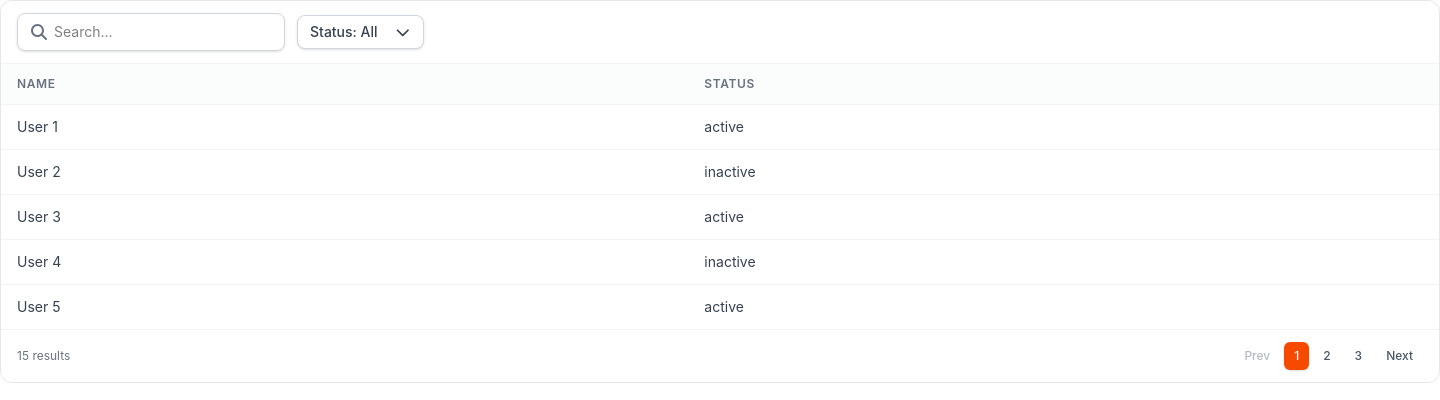
it: DataTable › pagination Next button navigates forward and Prev navigates back
Click the button "Next" at (1400, 356), box [1376,342,1423,370]
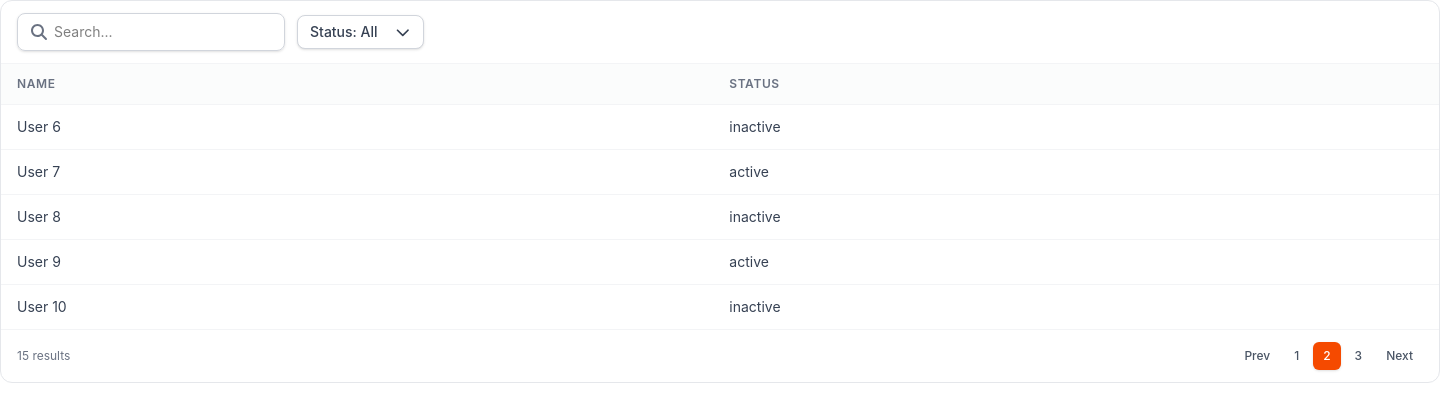
Expected: the row "User 6 inactive" is shown, [1,104,1439,150]
Click the button "Prev" at (1257, 356), box [1234,342,1280,370]
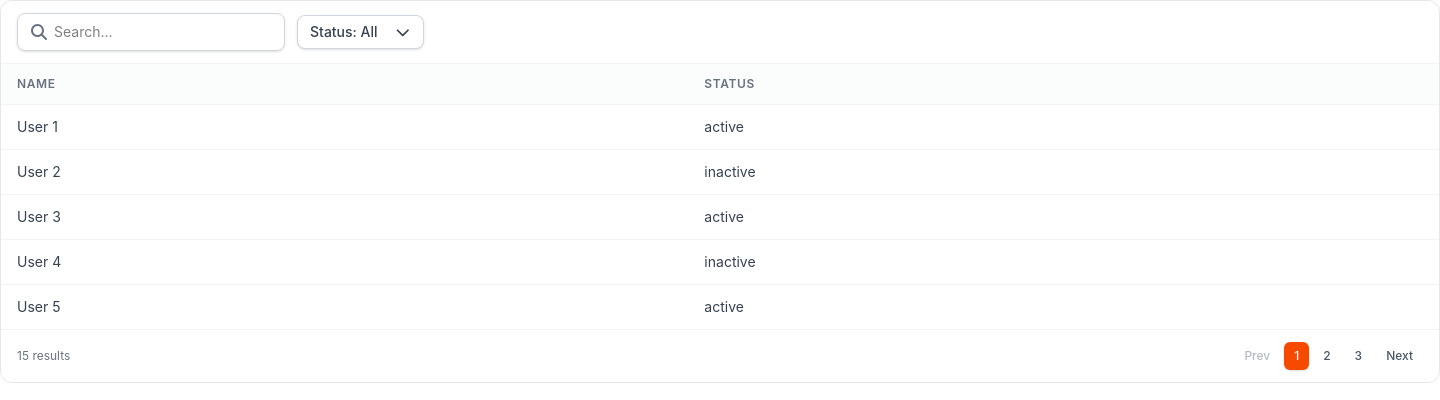
Expected: the row "User 1 active" is shown, [1,104,1439,150]
